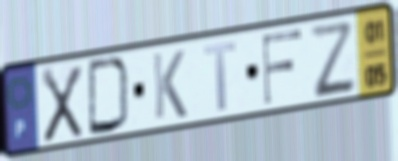D: (85, 55, 133, 138)
F: (260, 26, 304, 108)
K: (150, 48, 189, 123)
T: (201, 38, 239, 114)
X: (39, 63, 84, 146)
Z: (306, 19, 359, 101)
